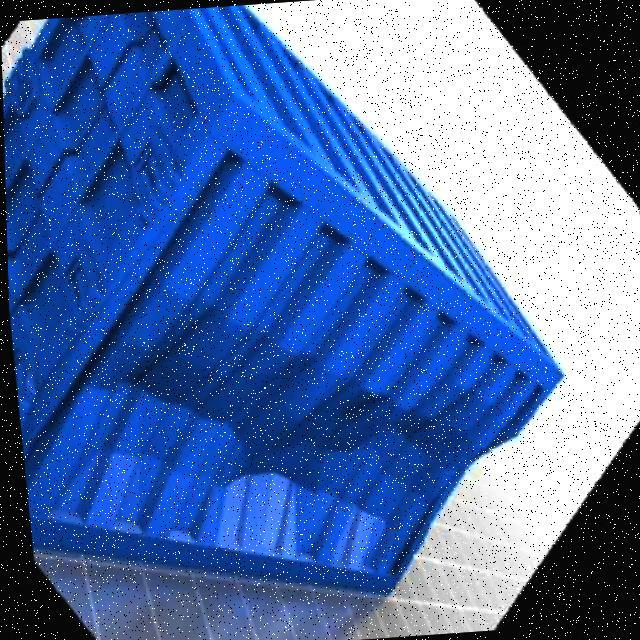dent: (20, 108, 570, 598)
